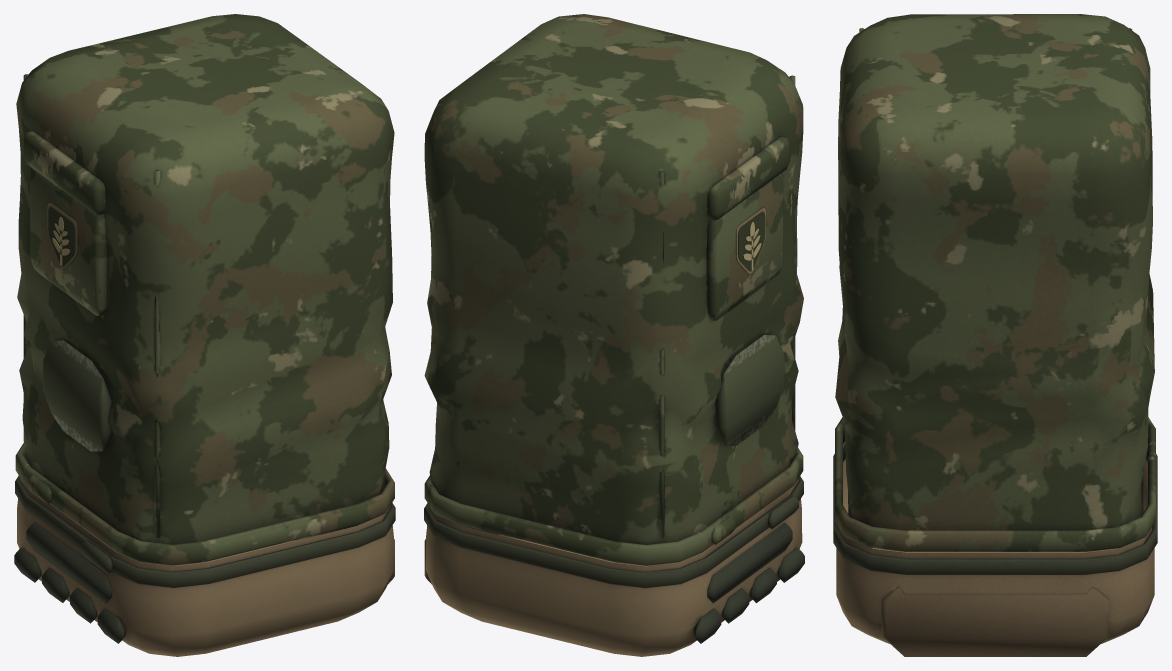
The model's file is Ashford_Arm_L.fbx.
The picture shows the model from 3 angles, left to right: view 1: azimuth 30°, elevation 25°; view 2: azimuth 150°, elevation 25°; view 3: azimuth 270°, elevation 25°; orthographic projection. The views are drawn at different scales.
Visible parts, largest first — view 1: Ashford_Arm_L_cloth, Ashford_Arm_L_glove, Ashford_Arm_L_knee, Ashford_Arm_L_strap, Ashford_Arm_L_band; view 2: Ashford_Arm_L_cloth, Ashford_Arm_L_glove, Ashford_Arm_L_knee, Ashford_Arm_L_strap, Ashford_Arm_L_band; view 3: Ashford_Arm_L_cloth, Ashford_Arm_L_glove, Ashford_Arm_L_strap.
Part boxes in pixels (left/top/right/bottom): Ashford_Arm_L_cloth: left=15, top=14, right=394, bottom=565; Ashford_Arm_L_glove: left=17, top=478, right=394, bottom=656; Ashford_Arm_L_knee: left=14, top=340, right=125, bottom=643; Ashford_Arm_L_strap: left=15, top=475, right=395, bottom=587; Ashford_Arm_L_band: left=47, top=202, right=77, bottom=268; Ashford_Arm_L_cloth: left=424, top=14, right=803, bottom=565; Ashford_Arm_L_glove: left=424, top=479, right=802, bottom=656; Ashford_Arm_L_knee: left=693, top=335, right=804, bottom=643; Ashford_Arm_L_strap: left=424, top=476, right=803, bottom=587; Ashford_Arm_L_band: left=736, top=208, right=765, bottom=273; Ashford_Arm_L_cloth: left=835, top=14, right=1155, bottom=551; Ashford_Arm_L_glove: left=836, top=441, right=1154, bottom=656; Ashford_Arm_L_strap: left=833, top=445, right=1157, bottom=574.
Bounding box in the file's own units: 117 × 206 × 114.
1 material, 1 textured.
